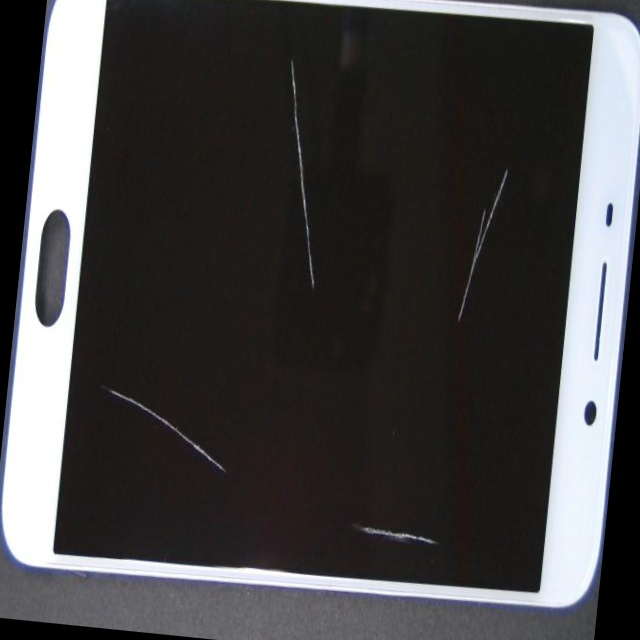scratch: (261, 233, 632, 640), (172, 179, 486, 445), (273, 94, 640, 293), (182, 258, 320, 640)
